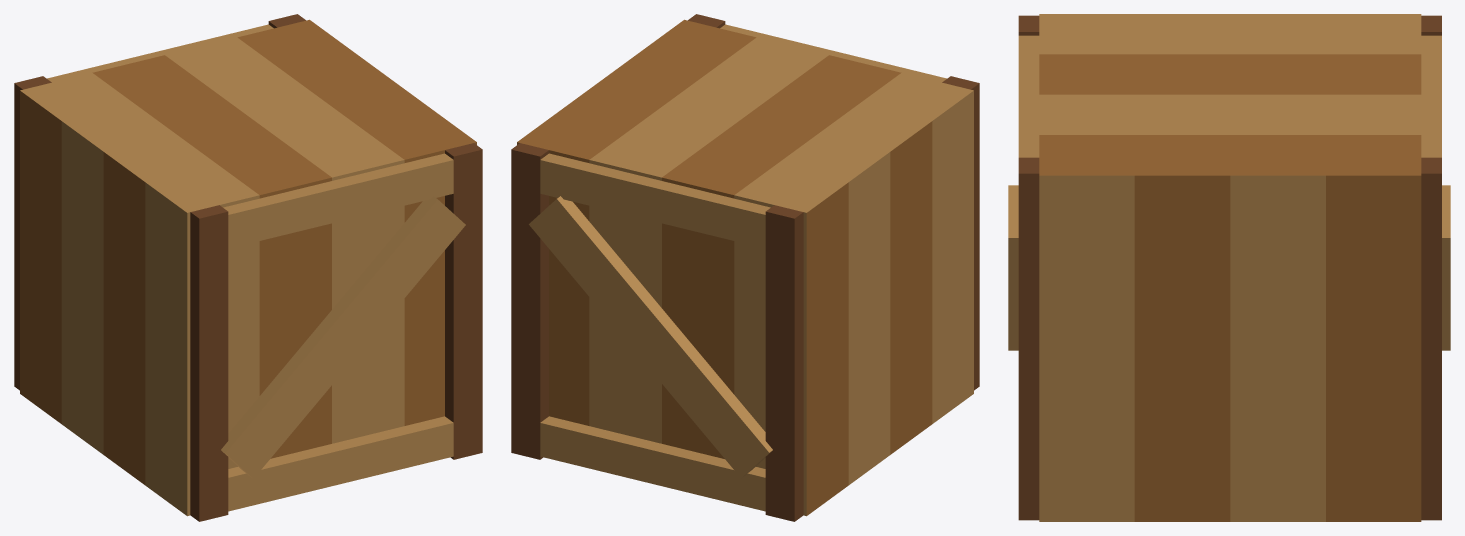
Rendered from wood_crate_1m.glb.
The picture shows the model from 3 angles, left to right: view 1: azimuth 30°, elevation 25°; view 2: azimuth 150°, elevation 25°; view 3: azimuth 270°, elevation 25°; orthographic projection. The views are drawn at different scales.
Visible parts, largest first — view 1: wood_crate_1m__common; view 2: wood_crate_1m__common; view 3: wood_crate_1m__common.
Part boxes in pixels (left/top/right/bottom): wood_crate_1m__common: left=14, top=14, right=482, bottom=521; wood_crate_1m__common: left=511, top=14, right=979, bottom=521; wood_crate_1m__common: left=1008, top=14, right=1450, bottom=521.
Bounding box in the file's own units: 0.9 × 0.9 × 1.04.
